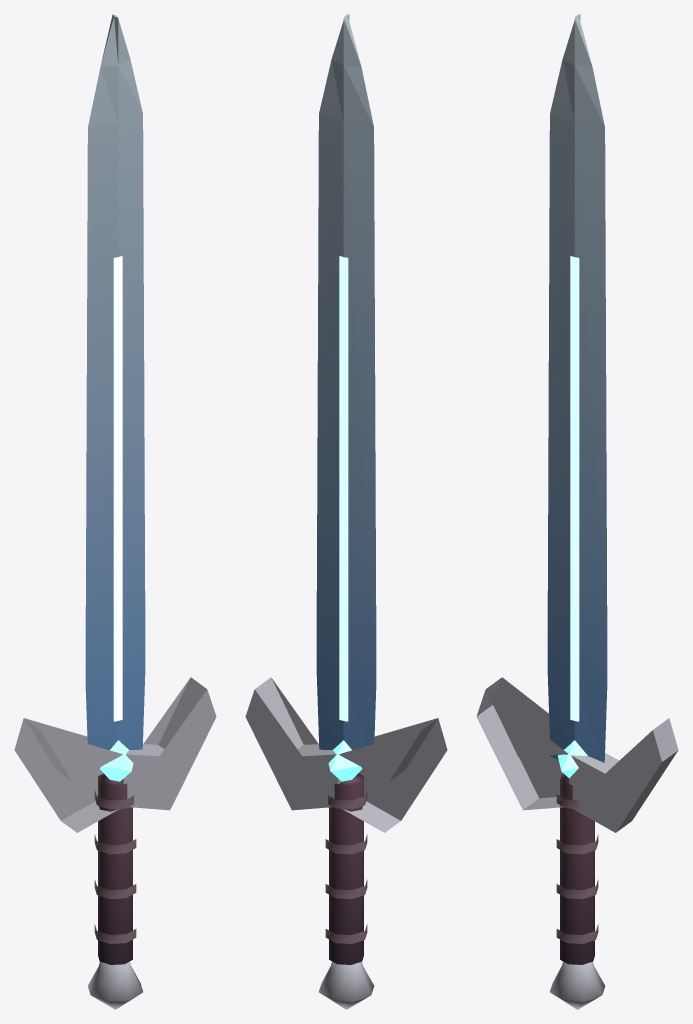
File: sword_azure.glb
3 views of the same model, side by side, from view 1: azimuth 30°, elevation 25°; view 2: azimuth 150°, elevation 25°; view 3: azimuth 330°, elevation 25° (orthographic).
Visible parts, largest first — view 1: sword_azure; view 2: sword_azure; view 3: sword_azure.
Boxes of the visible parts, box(x1,y1,x2,y2) form: sword_azure: box(14, 14, 216, 1009); sword_azure: box(245, 14, 447, 1009); sword_azure: box(476, 14, 678, 1009).
Size of the model in its own units: 0.26 by 1.33 by 0.0784.
